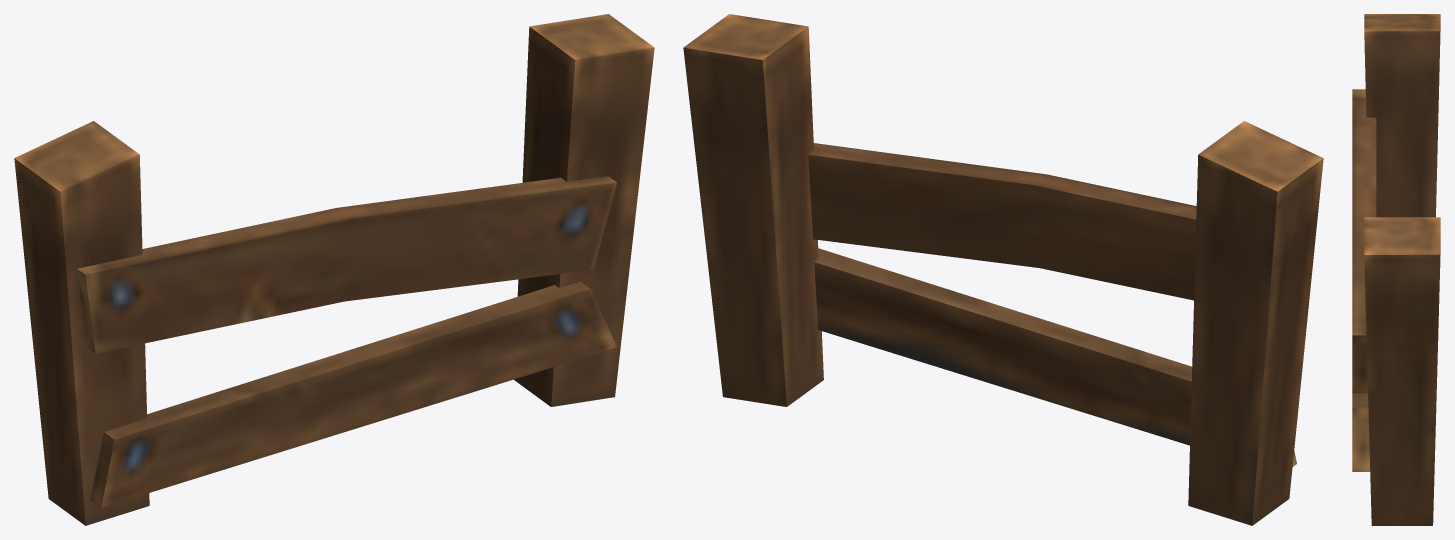
File: fence_10.FBX
3 views of the same model, side by side, from view 1: azimuth 30°, elevation 25°; view 2: azimuth 150°, elevation 25°; view 3: azimuth 270°, elevation 25° (orthographic). The views are drawn at different scales.
Visible parts, largest first — view 1: Object001; view 2: Object001; view 3: Object001.
Boxes of the visible parts, x1,y1,x2,y2 form: Object001: (14,14,654,525); Object001: (683,14,1323,525); Object001: (1352,14,1440,525).
Size of the model in its own units: 38.46 by 5.95 by 22.44.
